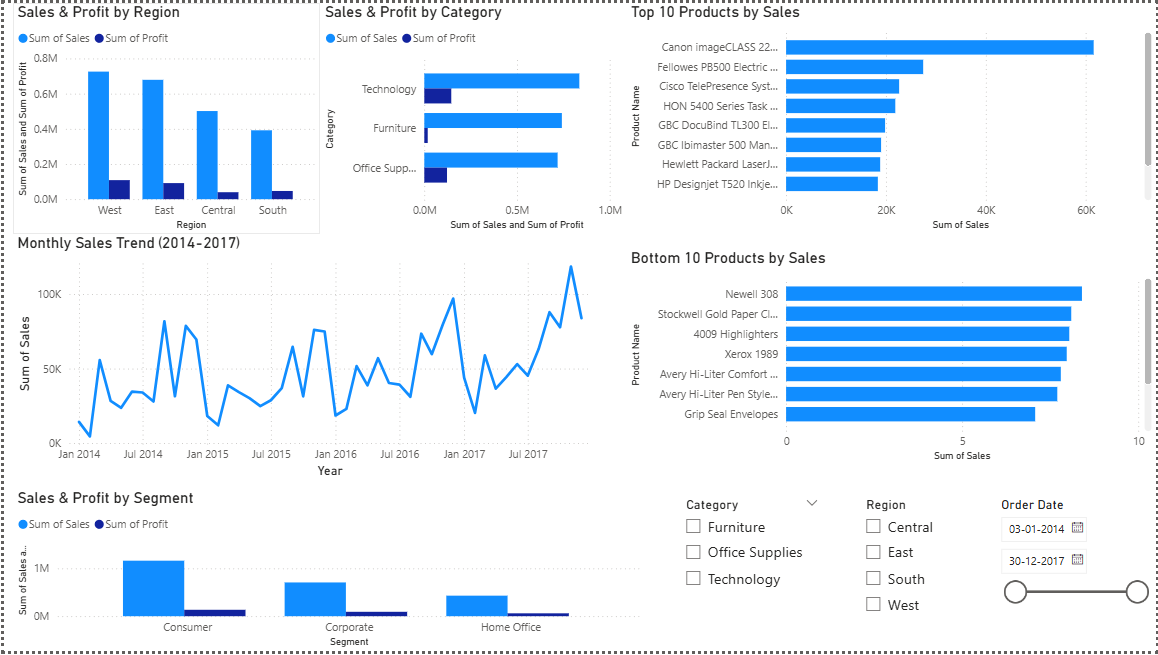

The dashboard page shown, as its layout file describes it:
{"tool":"powerbi","page":{"name":"page 1","canvas":[1280,720],"ordinal":0},"visuals":[{"type":"clusteredColumnChart","title":"Sales & Profit by Region","fields":{"Category":["Raw_Data.Region"],"Y":["Sum(Raw_Data.Sales)","Sum(Raw_Data.Profit)"]},"box":[10,0,341.7,256.7],"z":0},{"type":"clusteredBarChart","title":"Sales & Profit by Category","fields":{"Y":["Sum(Raw_Data.Sales)","Sum(Raw_Data.Profit)"],"Category":["Raw_Data.Category"]},"box":[351.7,0,340,256.7],"z":1},{"type":"lineChart","title":"Monthly Sales Trend (2014-2017)","fields":{"Category":["Raw_Data.Order Date.Variation.Date Hierarchy.Year","Raw_Data.Order Date.Variation.Date Hierarchy.Quarter","Raw_Data.Order Date.Variation.Date Hierarchy.Month","Raw_Data.Order Date.Variation.Date Hierarchy.Day"],"Y":["Sum(Raw_Data.Sales)"]},"box":[10,256.7,658.3,275],"z":2},{"type":"clusteredBarChart","title":"Top 10 Products by Sales","fields":{"Category":["Raw_Data.Product Name"],"Y":["Sum(Raw_Data.Sales)"]},"box":[691.7,0,588.3,256.7],"z":3},{"type":"clusteredBarChart","title":"Bottom 10 Products by Sales","fields":{"Category":["Raw_Data.Product Name"],"Y":["Sum(Raw_Data.Sales)"]},"box":[691.7,273.3,588.3,240],"z":4},{"type":"lineClusteredColumnComboChart","title":"Sales & Profit  by Segment","fields":{"Category":["Raw_Data.Segment"],"Y":["Sum(Raw_Data.Sales)","Sum(Raw_Data.Profit)"]},"box":[10,540,701.7,180],"z":5},{"type":"slicer","fields":{"Values":["Raw_Data.Category"]},"box":[745,543.3,171.7,176.7],"z":6},{"type":"slicer","fields":{"Values":["Raw_Data.Region"]},"box":[945,543.3,150,176.7],"z":7},{"type":"slicer","fields":{"Values":["Raw_Data.Order Date"]},"box":[1095,543.3,185,176.7],"z":8}]}

Visuals, with their boxes in screenshot pixels (x1, y1, x2, y2), scaled from the page's 1280x720 canvas onto the 1158x655 screenshot:
"Sales & Profit by Region" clusteredColumnChart: detection(9, 0, 318, 234)
"Sales & Profit by Category" clusteredBarChart: detection(318, 0, 626, 234)
"Monthly Sales Trend (2014-2017)" lineChart: detection(9, 234, 605, 484)
"Top 10 Products by Sales" clusteredBarChart: detection(626, 0, 1157, 234)
"Bottom 10 Products by Sales" clusteredBarChart: detection(626, 249, 1157, 467)
"Sales & Profit  by Segment" lineClusteredColumnComboChart: detection(9, 491, 644, 654)
slicer - Raw_Data.Category: detection(674, 494, 829, 654)
slicer - Raw_Data.Region: detection(855, 494, 991, 654)
slicer - Raw_Data.Order Date: detection(991, 494, 1157, 654)
